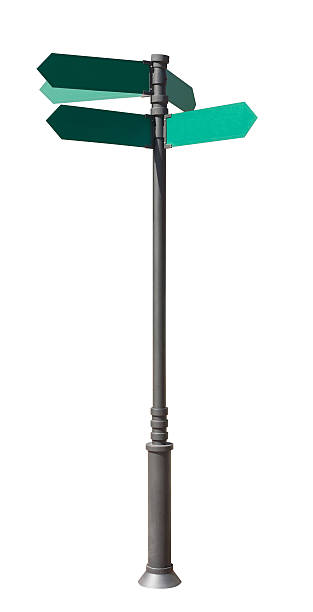light_pole: (136, 149, 180, 597)
